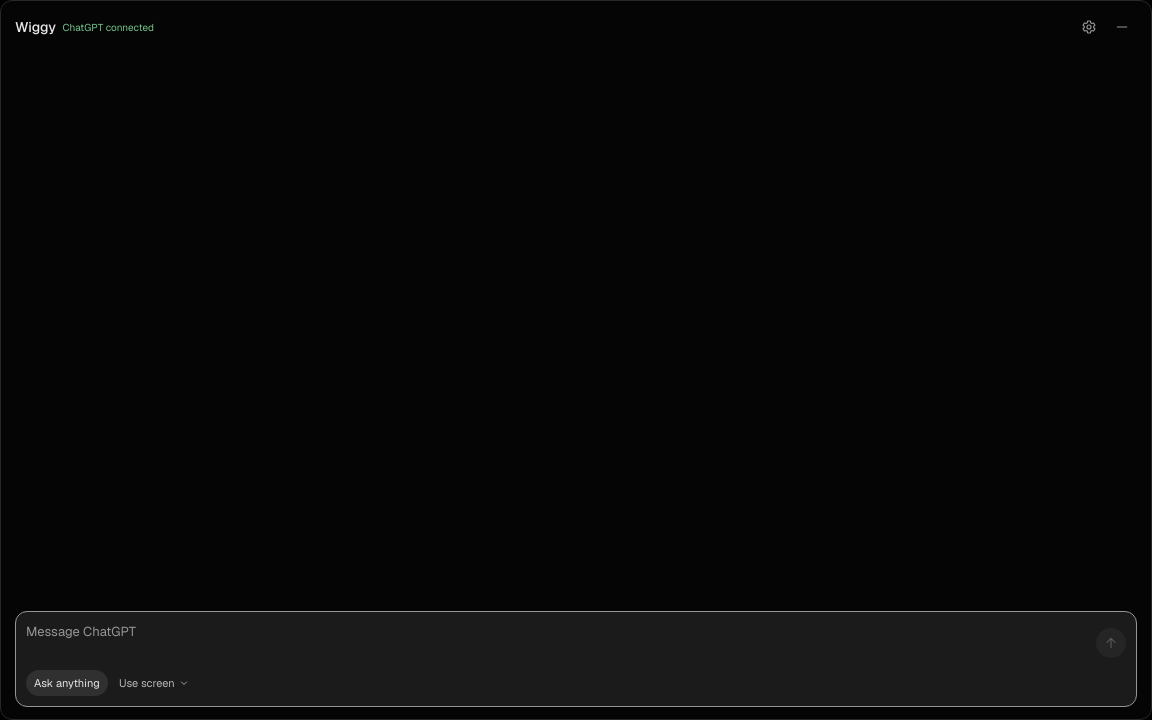
Test: chat and settings › keeps chat actions inside the composer and settings free of descriptions
Expected: the number of headings is 1, x1=15 y1=16 x2=56 y2=38
Click the button named "Settings". click: (1089, 27)
box: x1=1074 y1=12 x2=1104 y2=42
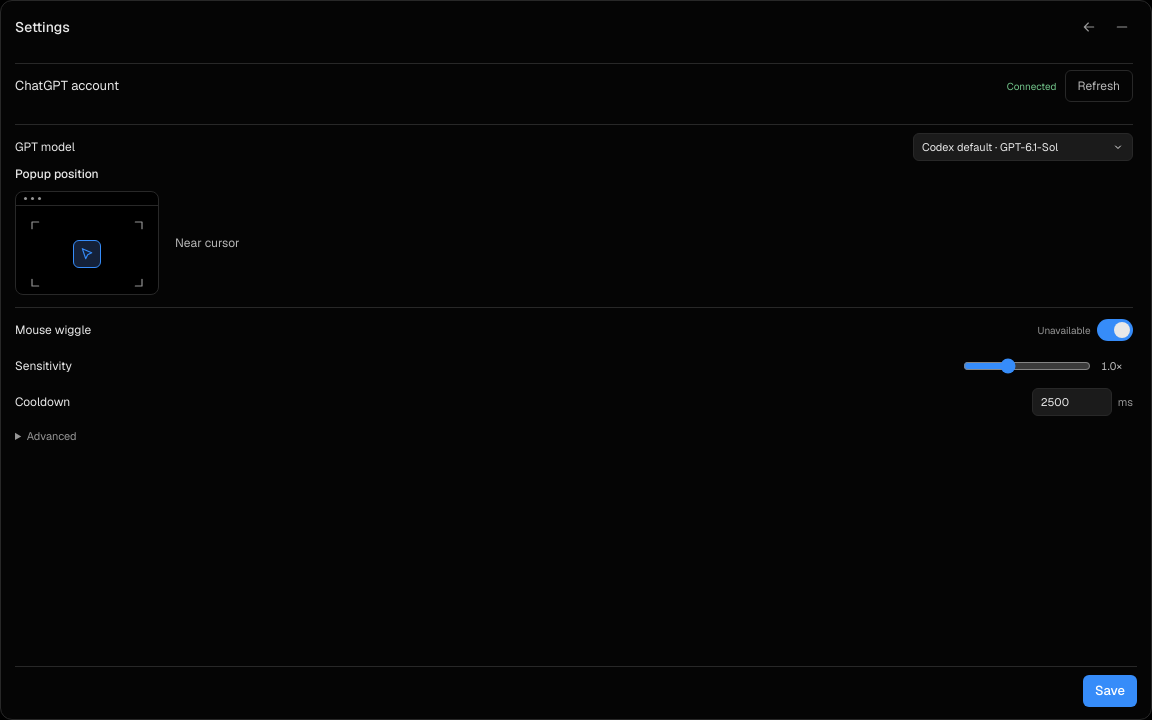
Result: the checkbox labelled "Mouse wiggle" is shown at x1=15 y1=321 x2=91 y2=339
